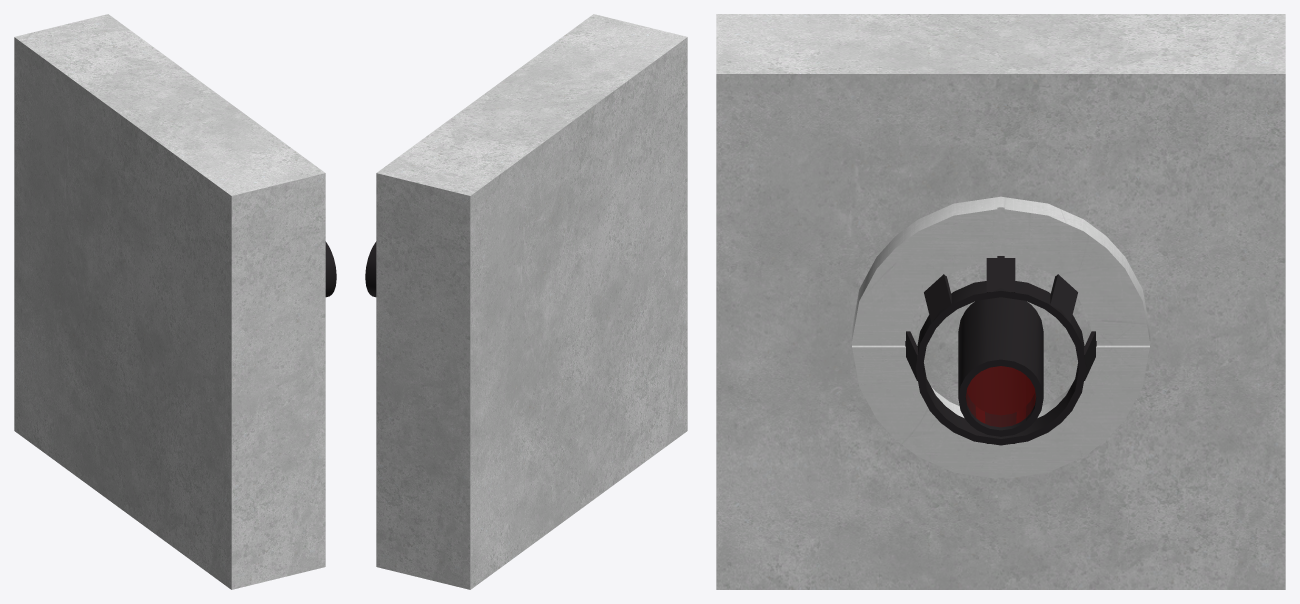
File: LaserEmitter.obj
3 renders of one model, left to right at view 1: azimuth 30°, elevation 25°; view 2: azimuth 150°, elevation 25°; view 3: azimuth 270°, elevation 25°, orthographic. The views are drawn at different scales.
Parts seen in each view (by area): view 1: Wall1, Tube1; view 2: Wall1, Tube1; view 3: Wall1, Base1, Tube1, Ring1, Source1, Connector2, Connector4, Connector7.
Boxes of the visible parts, x1,y1,x2,y2 form: Wall1: [14, 14, 325, 589]; Tube1: [325, 241, 336, 297]; Wall1: [376, 14, 687, 589]; Tube1: [365, 241, 376, 297]; Wall1: [716, 14, 1285, 589]; Base1: [851, 196, 1150, 478]; Tube1: [958, 297, 1043, 436]; Ring1: [915, 281, 1086, 445]; Source1: [966, 366, 1035, 426]; Connector2: [986, 256, 1015, 292]; Connector4: [1050, 274, 1077, 322]; Connector7: [924, 274, 951, 322].
Bounding box in the file's own units: 2.1 × 4 × 4.
Materials: 4 (2 with a texture image).
